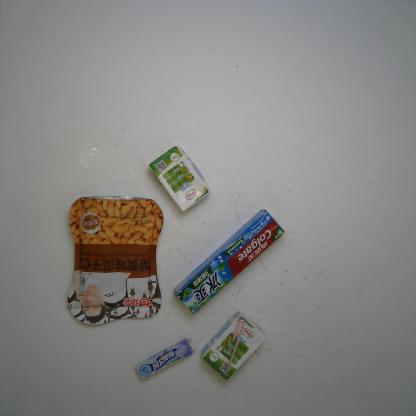Candy: (132, 338, 196, 380)
Dried Fruit: (63, 195, 162, 325)
Milk: (198, 309, 266, 381), (148, 143, 209, 215)
Personal Hygiene: (173, 209, 284, 315)
